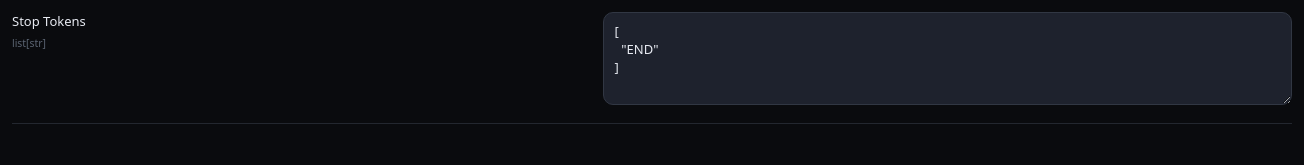
Scenario: configuration shape contracts › keeps invalid JSON visible and never commits a broken structured value
Later steps or results of the test are not shown.
Replace the text in the text box labelled "Stop Tokens" with "[" at [947, 58], box x1=602 y1=12 x2=1292 y2=105
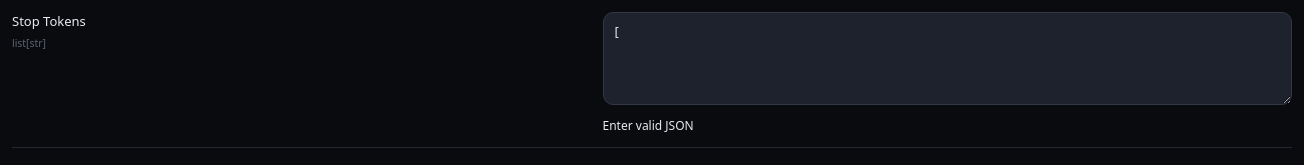
Expected: the message shows "JSON", x1=602 y1=117 x2=694 y2=134
